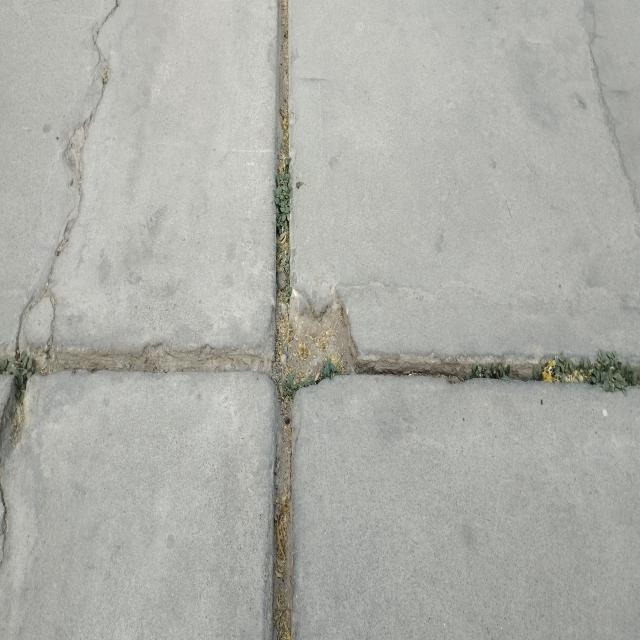hole: (257, 292, 360, 400)
